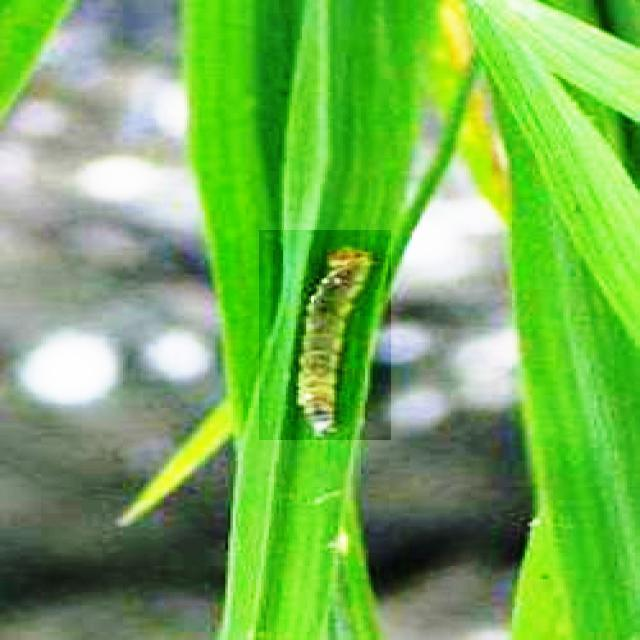leaf-folder: (260, 230, 392, 440)
